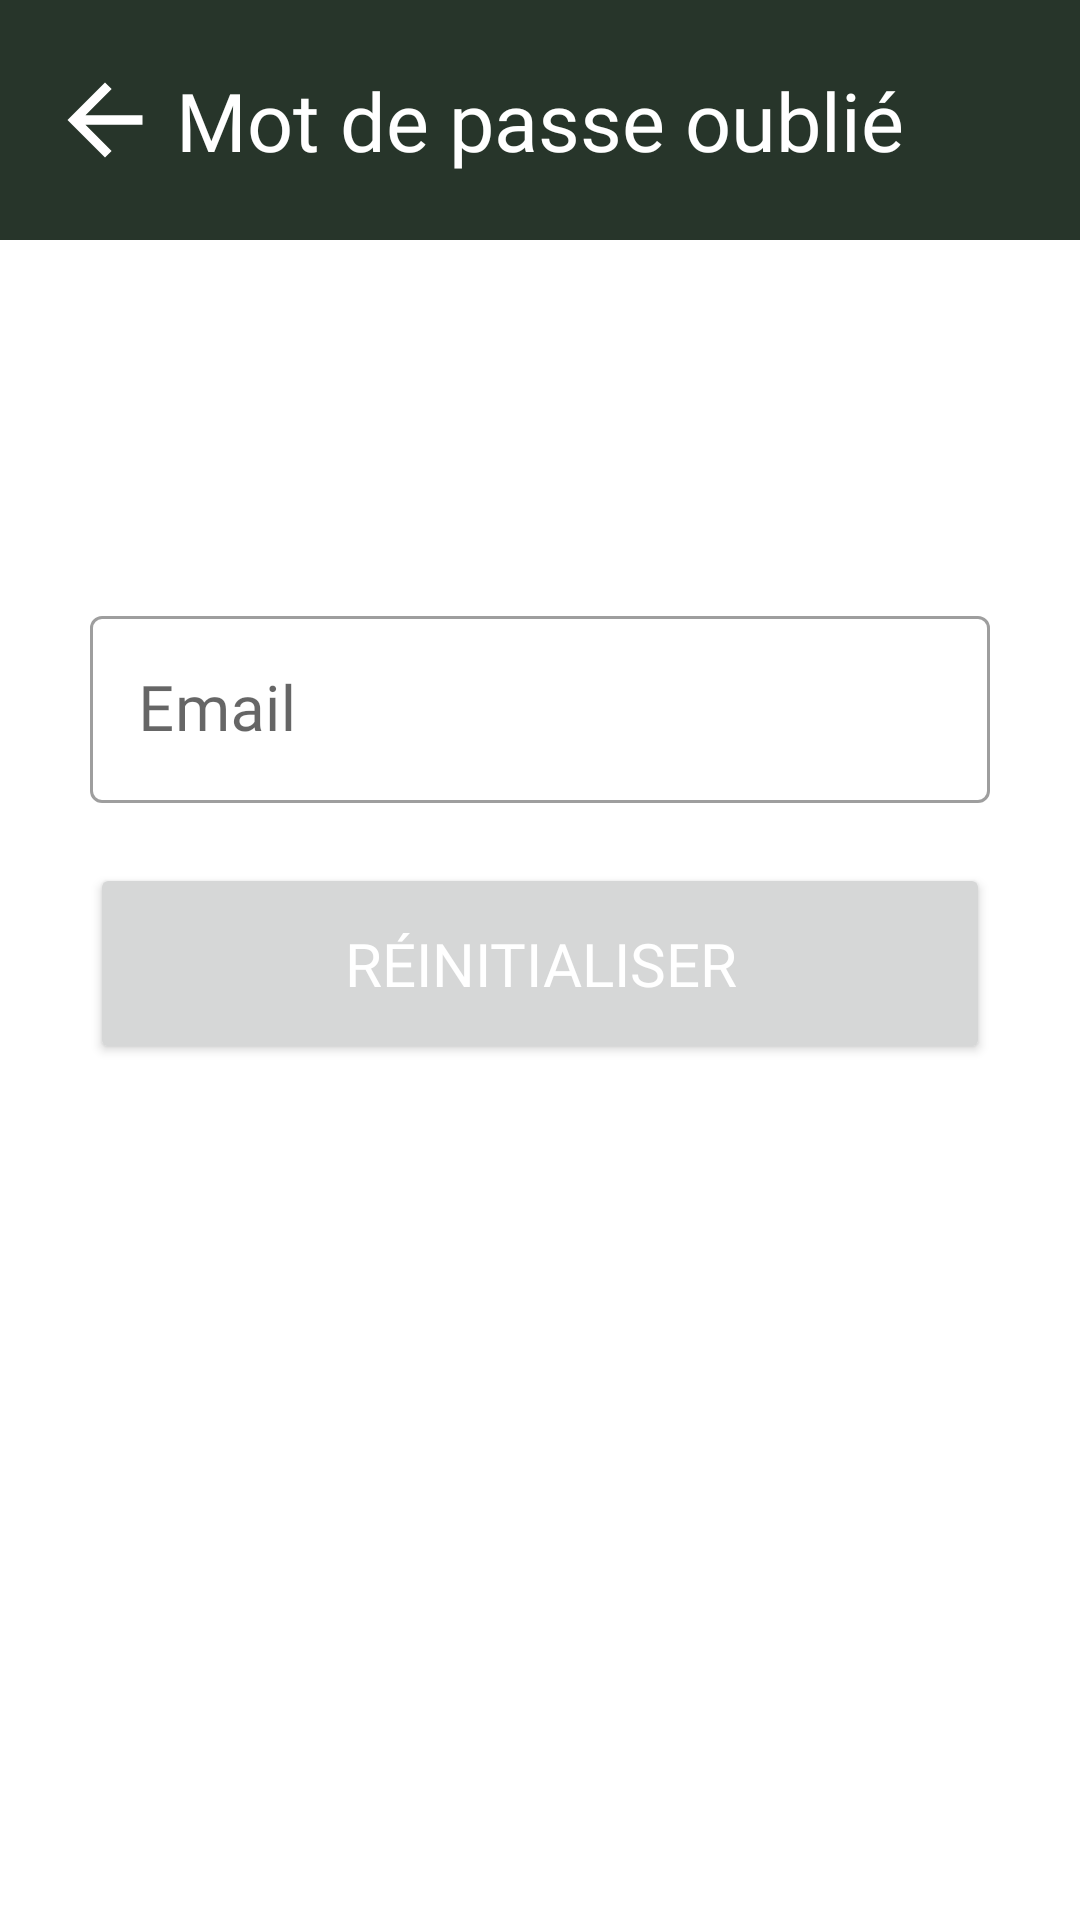

Point at icon controls on the screen. Image size 1080 x 1920, points as [x,y].
back: [105,120]
